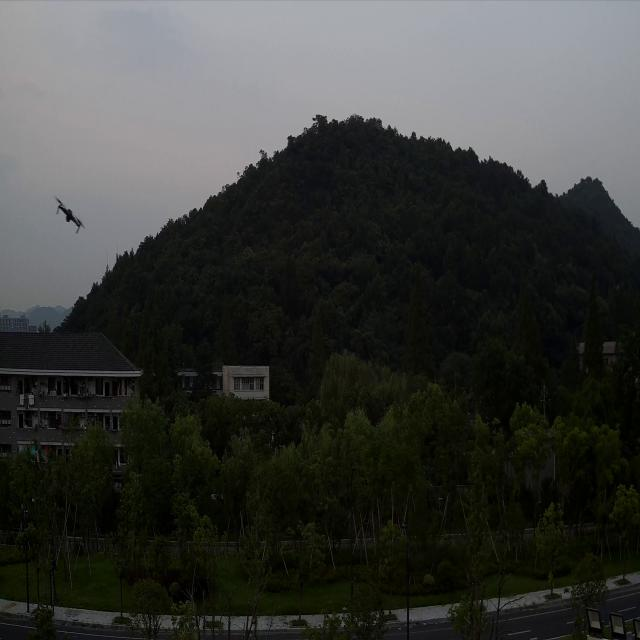drone: (51, 193, 86, 235)
